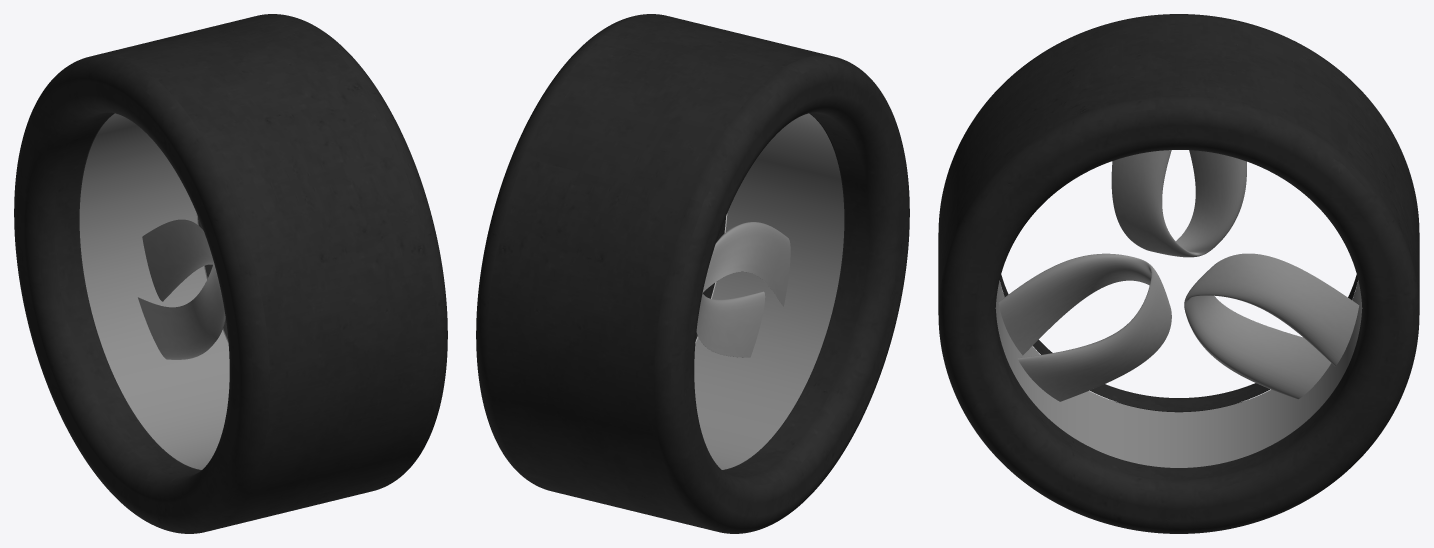
3 views of the same model, side by side, from view 1: azimuth 30°, elevation 25°; view 2: azimuth 150°, elevation 25°; view 3: azimuth 270°, elevation 25° (orthographic).
Bounding box in the file's own units: 0.212 × 0.4373 × 0.4373.
3 materials, 1 textured.
